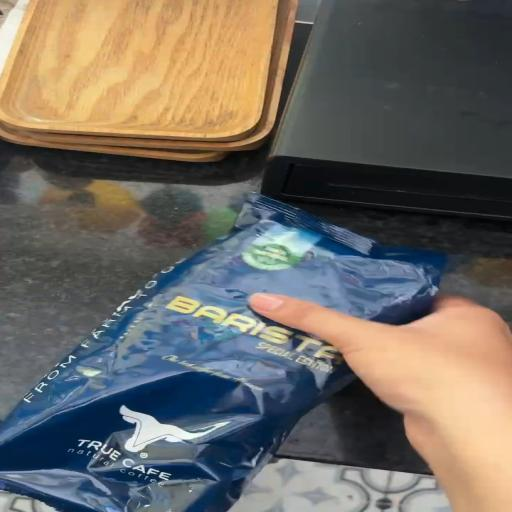cafe_hat: (0, 194, 443, 512)
